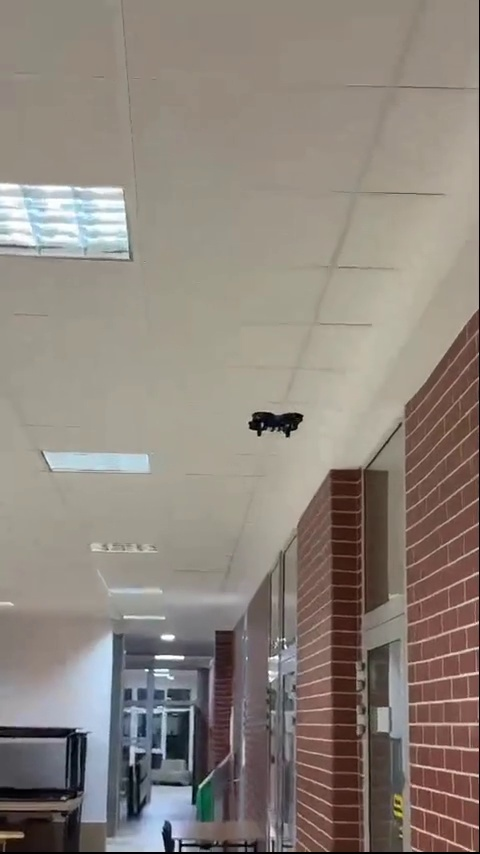drone: (249, 410, 304, 437)
